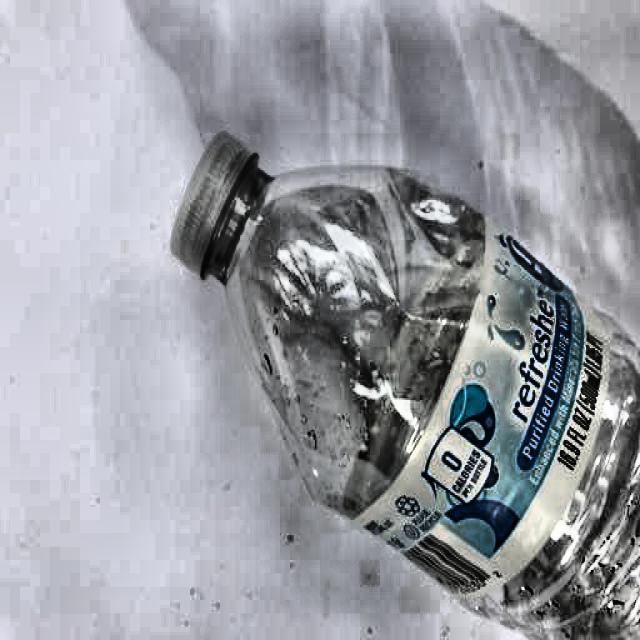plastic: (171, 133, 640, 632)
